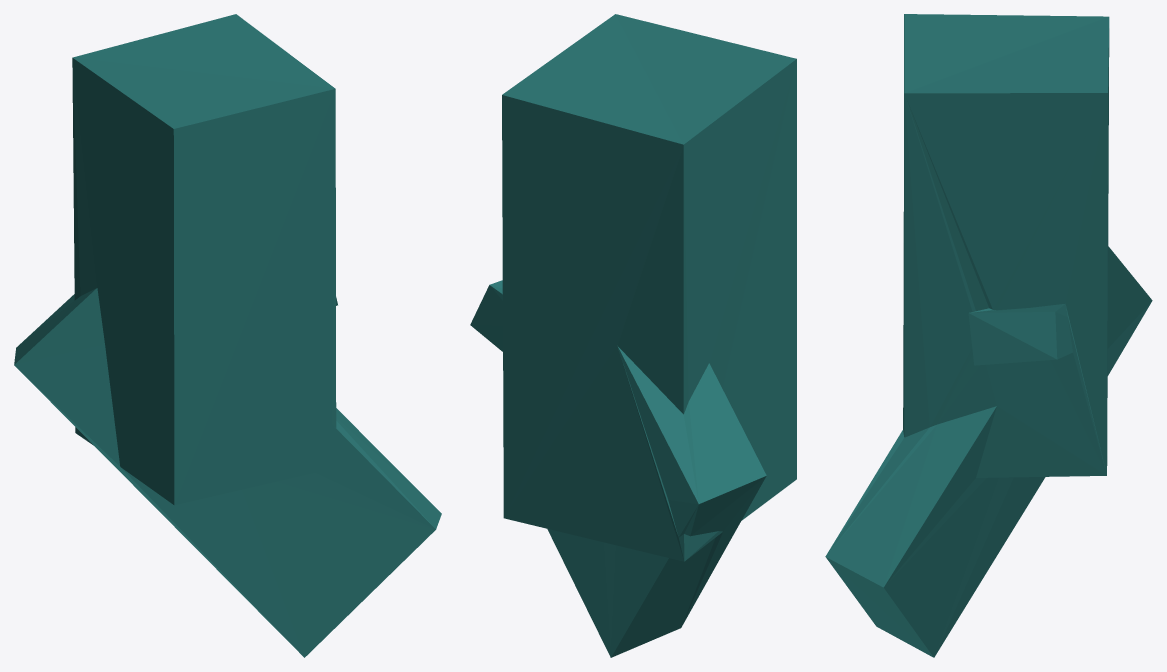
The picture shows the model from 3 angles, left to right: view 1: azimuth 30°, elevation 25°; view 2: azimuth 150°, elevation 25°; view 3: azimuth 270°, elevation 25°; orthographic projection. The views are drawn at different scales.
Parts seen in each view (by area): view 1: 226_Cube.928; view 2: 226_Cube.928; view 3: 226_Cube.928.
Part boxes in pixels (bbox=[...]): 226_Cube.928: bbox=[14, 14, 441, 657]; 226_Cube.928: bbox=[470, 14, 796, 657]; 226_Cube.928: bbox=[825, 14, 1152, 657].
Bounding box in the file's own units: 10.8 × 17.93 × 9.32.
